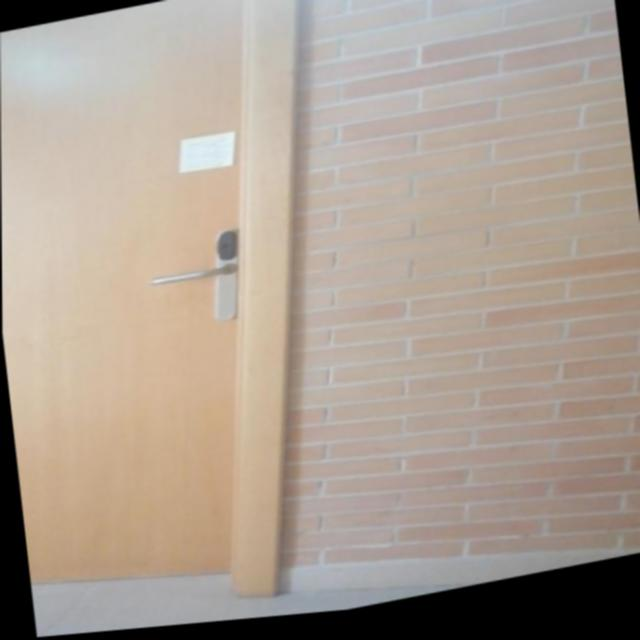door_handle: (142, 263, 237, 296)
